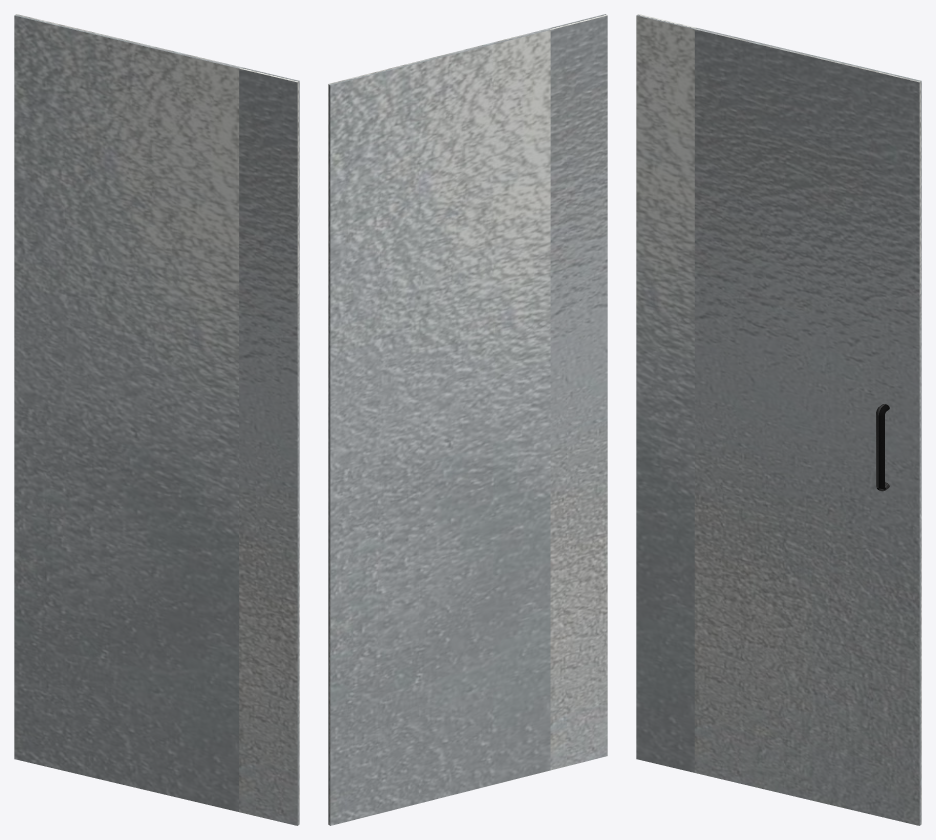
Rendered from shower.obj.
3 views of the same model, side by side, from view 1: azimuth 90°, elevation 25°; view 2: azimuth 150°, elevation 25°; view 3: azimuth 270°, elevation 25° (orthographic).
Visible parts, largest first — view 1: Mesh2 ducha_animacion cristales Model; view 2: Mesh2 ducha_animacion cristales Model; view 3: Mesh2 ducha_animacion cristales Model, Mesh1 Group1 ducha_animacion cristales Model.
Part boxes in pixels (x1=…): Mesh2 ducha_animacion cristales Model: x1=14, y1=14, x2=299, y2=825; Mesh2 ducha_animacion cristales Model: x1=328, y1=14, x2=607, y2=825; Mesh2 ducha_animacion cristales Model: x1=636, y1=14, x2=921, y2=825; Mesh1 Group1 ducha_animacion cristales Model: x1=876, y1=404, x2=889, y2=491.
Bounding box in the file's own units: 0.375 × 1.9 × 0.6608.
2 materials, 2 textured.
